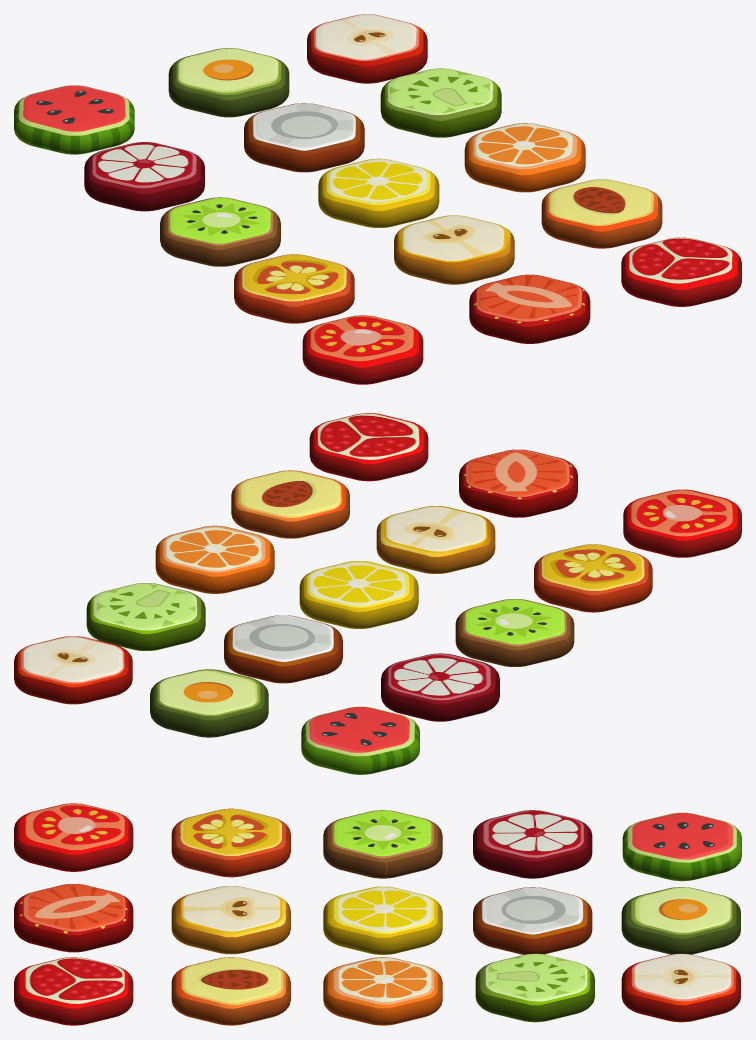
The model's file is fruit_7.fbx.
The picture shows the model from 3 angles, top to bottom: view 1: azimuth 30°, elevation 25°; view 2: azimuth 150°, elevation 25°; view 3: azimuth 270°, elevation 25°; orthographic projection.
Parts seen in each view (by area): view 1: Circle.002, Circle.009, Circle.003, Circle.014, Circle.015, Circle.010, Circle.008, Circle.007, Circle.004, Circle.011, Circle.012, Circle.006 (+3 smaller); view 2: Circle.013, Circle.009, Circle.011, Circle.007, Circle.008, Circle.001, Circle.005, Circle.015, Circle.012, Circle.004, Circle.010, Circle.014 (+3 smaller); view 3: Circle.004, Circle.001, Circle.007, Circle.003, Circle.009, Circle.008, Circle.010, Circle.012, Circle.011, Circle.014, Circle.006, Circle.013 (+3 smaller).
Part boxes in pixels (bbox=[...]): Circle.002: bbox=[168, 48, 289, 117]; Circle.009: bbox=[464, 123, 585, 192]; Circle.003: bbox=[380, 68, 501, 137]; Circle.014: bbox=[469, 274, 590, 343]; Circle.015: bbox=[302, 315, 423, 384]; Circle.010: bbox=[541, 179, 662, 248]; Circle.008: bbox=[318, 158, 439, 227]; Circle.007: bbox=[160, 197, 280, 266]; Circle.004: bbox=[14, 85, 134, 154]; Circle.011: bbox=[394, 215, 514, 284]; Circle.012: bbox=[234, 254, 354, 323]; Circle.006: bbox=[84, 142, 204, 211]; Circle.013: bbox=[309, 413, 428, 481]; Circle.009: bbox=[155, 525, 274, 593]; Circle.011: bbox=[376, 506, 495, 573]; Circle.007: bbox=[455, 599, 574, 666]; Circle.008: bbox=[299, 561, 418, 628]; Circle.001: bbox=[14, 636, 132, 704]; Circle.005: bbox=[224, 615, 342, 683]; Circle.015: bbox=[623, 489, 741, 557]; Circle.012: bbox=[534, 544, 652, 612]; Circle.004: bbox=[301, 706, 419, 774]; Circle.010: bbox=[231, 470, 349, 538]; Circle.014: bbox=[459, 449, 577, 517]; Circle.004: bbox=[622, 812, 741, 881]; Circle.001: bbox=[621, 953, 740, 1022]; Circle.007: bbox=[323, 810, 442, 878]; Circle.003: bbox=[475, 953, 594, 1022]; Circle.009: bbox=[323, 957, 442, 1025]; Circle.008: bbox=[323, 886, 442, 954]; Circle.010: bbox=[171, 957, 290, 1025]; Circle.012: bbox=[171, 808, 290, 877]; Circle.011: bbox=[171, 886, 290, 954]; Circle.014: bbox=[14, 884, 133, 952]; Circle.006: bbox=[473, 810, 592, 878]; Circle.013: bbox=[14, 957, 133, 1025].
Bounding box in the file's own units: 2860 × 152 × 4239.
15 materials, 15 textured.
